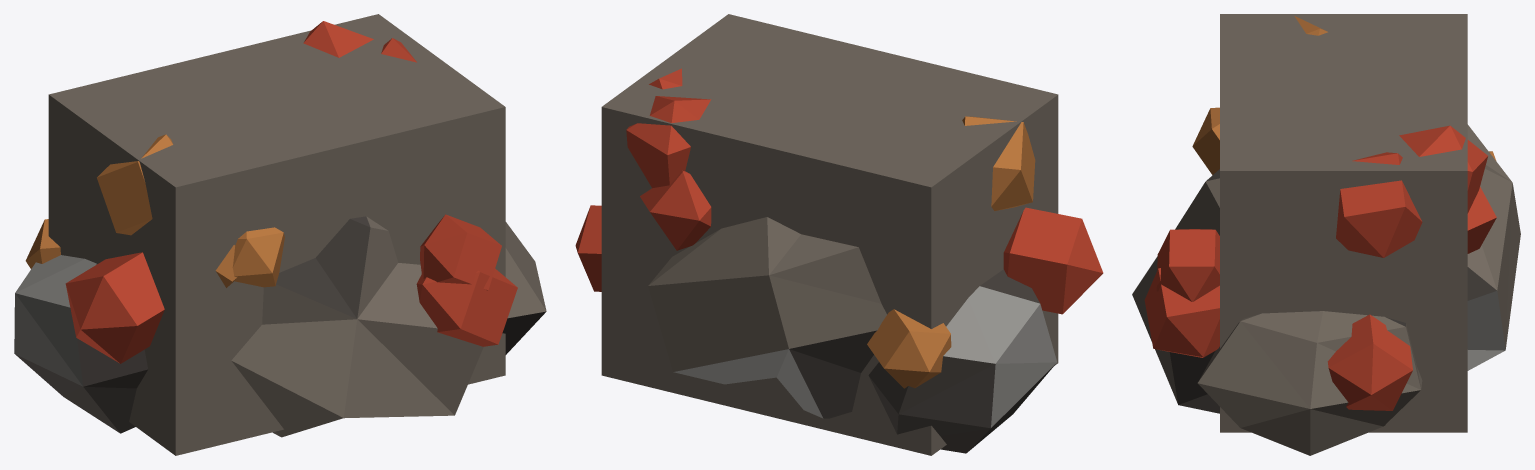
The model's file is Prop_OreVein_Iron.fbx.
3 views of the same model, side by side, from view 1: azimuth 30°, elevation 25°; view 2: azimuth 150°, elevation 25°; view 3: azimuth 270°, elevation 25° (orthographic). The views are drawn at different scales.
Visible parts, largest first — view 1: Body, Rock; view 2: Body, Rock; view 3: Body, Rock.
Boxes of the visible parts, bbox=[...] form: Body: bbox=[48, 14, 505, 455]; Rock: bbox=[14, 21, 546, 437]; Body: bbox=[601, 14, 1058, 455]; Rock: bbox=[575, 68, 1103, 453]; Body: bbox=[1220, 14, 1467, 432]; Rock: bbox=[1132, 16, 1520, 455].
Bounding box in the file's own units: 5.19 × 3.5 × 3.77.
